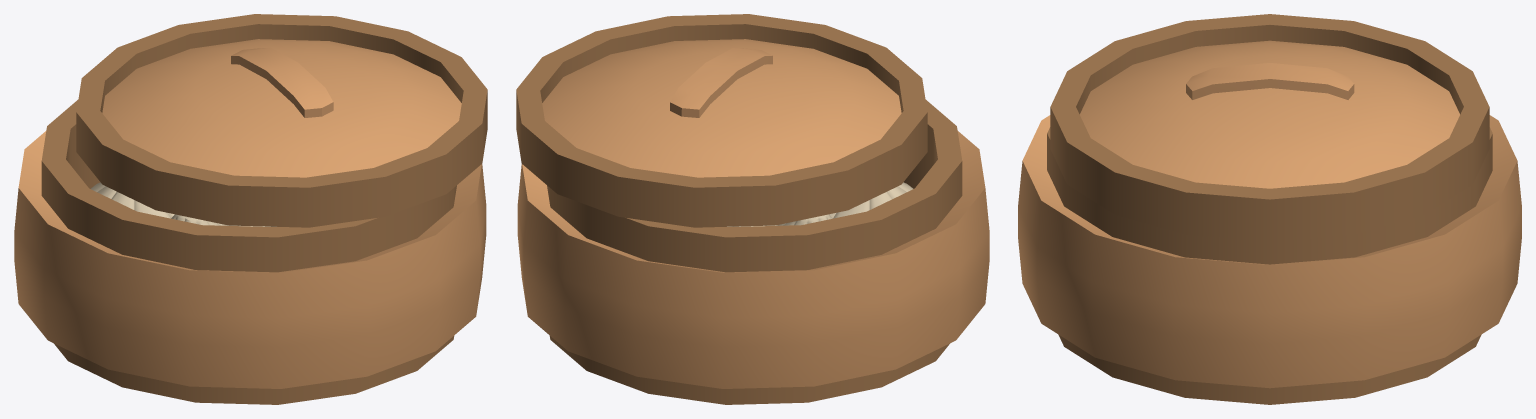
The model's file is chukaman_steamer.glb.
The picture shows the model from 3 angles, left to right: view 1: azimuth 30°, elevation 25°; view 2: azimuth 150°, elevation 25°; view 3: azimuth 270°, elevation 25°; orthographic projection. The views are drawn at different scales.
Parts seen in each view (by area): view 1: ChukamanSteamer_Lid; view 2: ChukamanSteamer_Lid; view 3: ChukamanSteamer_Lid.
Part boxes in pixels (x1=…): ChukamanSteamer_Lid: x1=14, y1=14, x2=487, y2=404; ChukamanSteamer_Lid: x1=516, y1=14, x2=989, y2=404; ChukamanSteamer_Lid: x1=1018, y1=14, x2=1521, y2=404.
Bounding box in the file's own units: 1.11 × 0.6136 × 1.09.
1 material, 1 textured.
